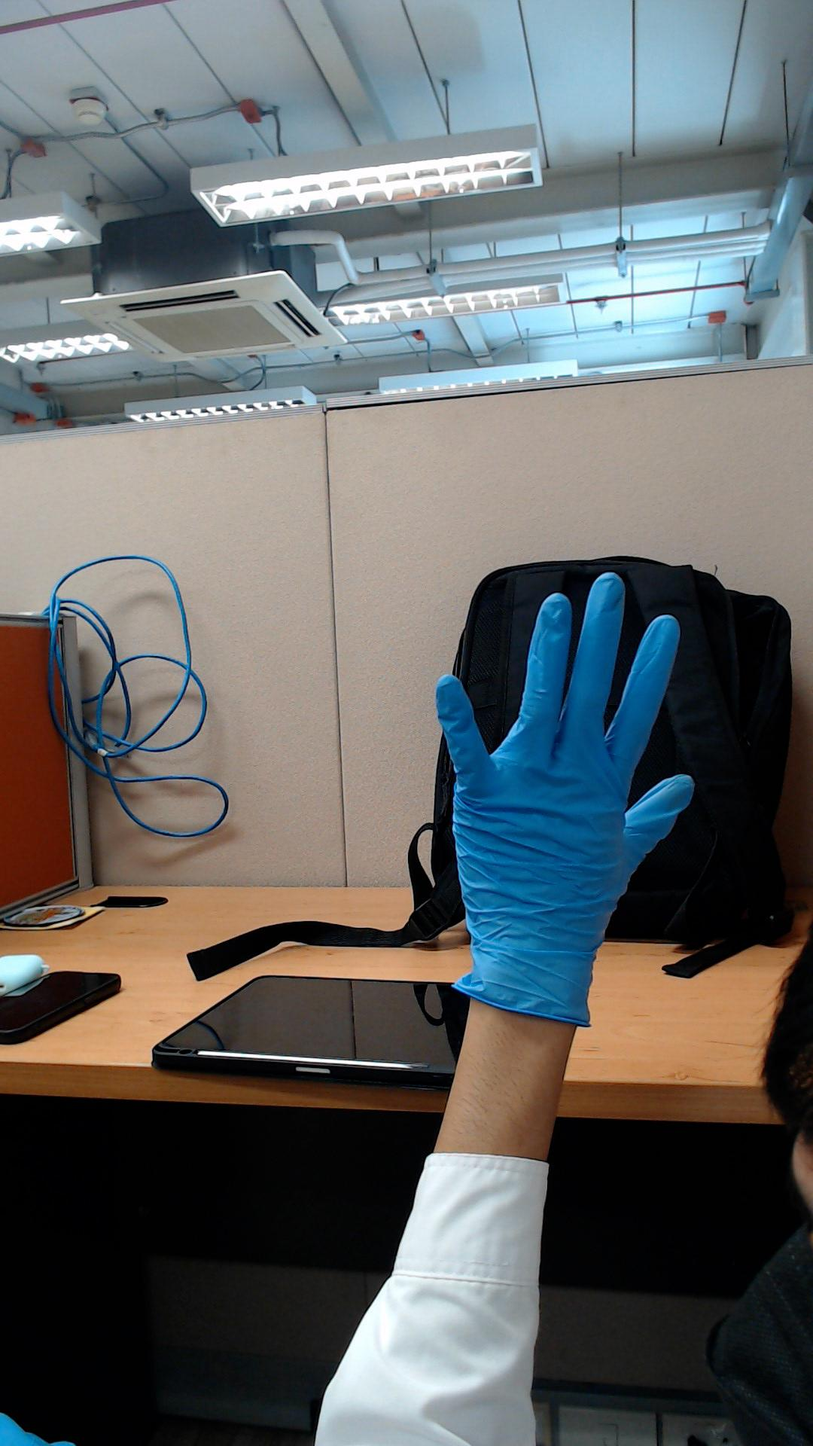gloves: (427, 557, 708, 930)
